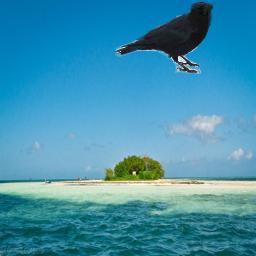Crow: (115, 2, 213, 74)
